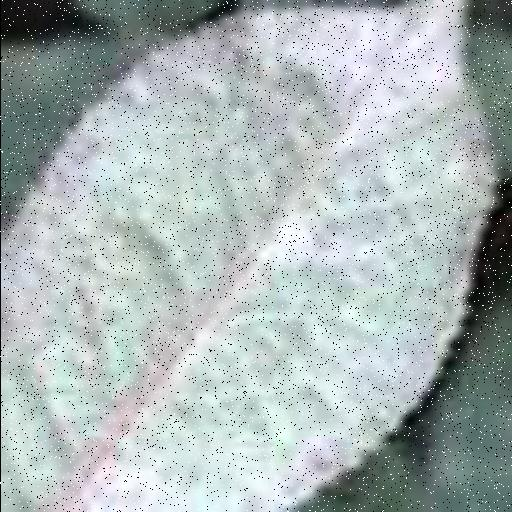powdery_mildew: (0, 0, 498, 512)
